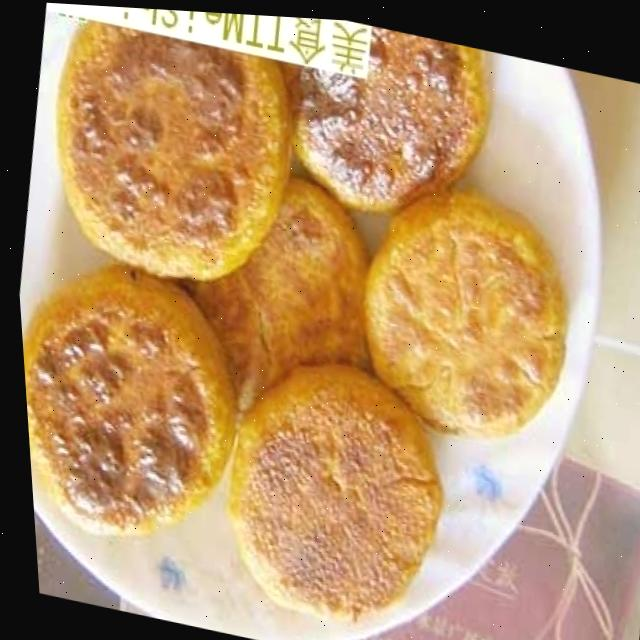炸货点心: (0, 0, 603, 640)
蛋糕甜品: (0, 0, 603, 640)
